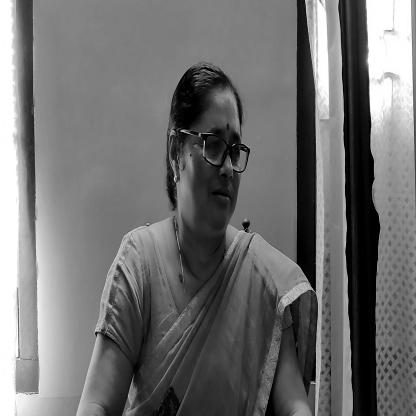Distracted: (166, 58, 247, 237)
